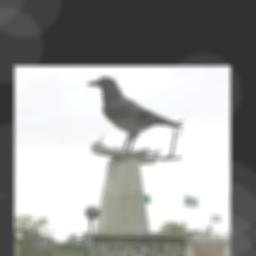Crow: (87, 76, 183, 155)
